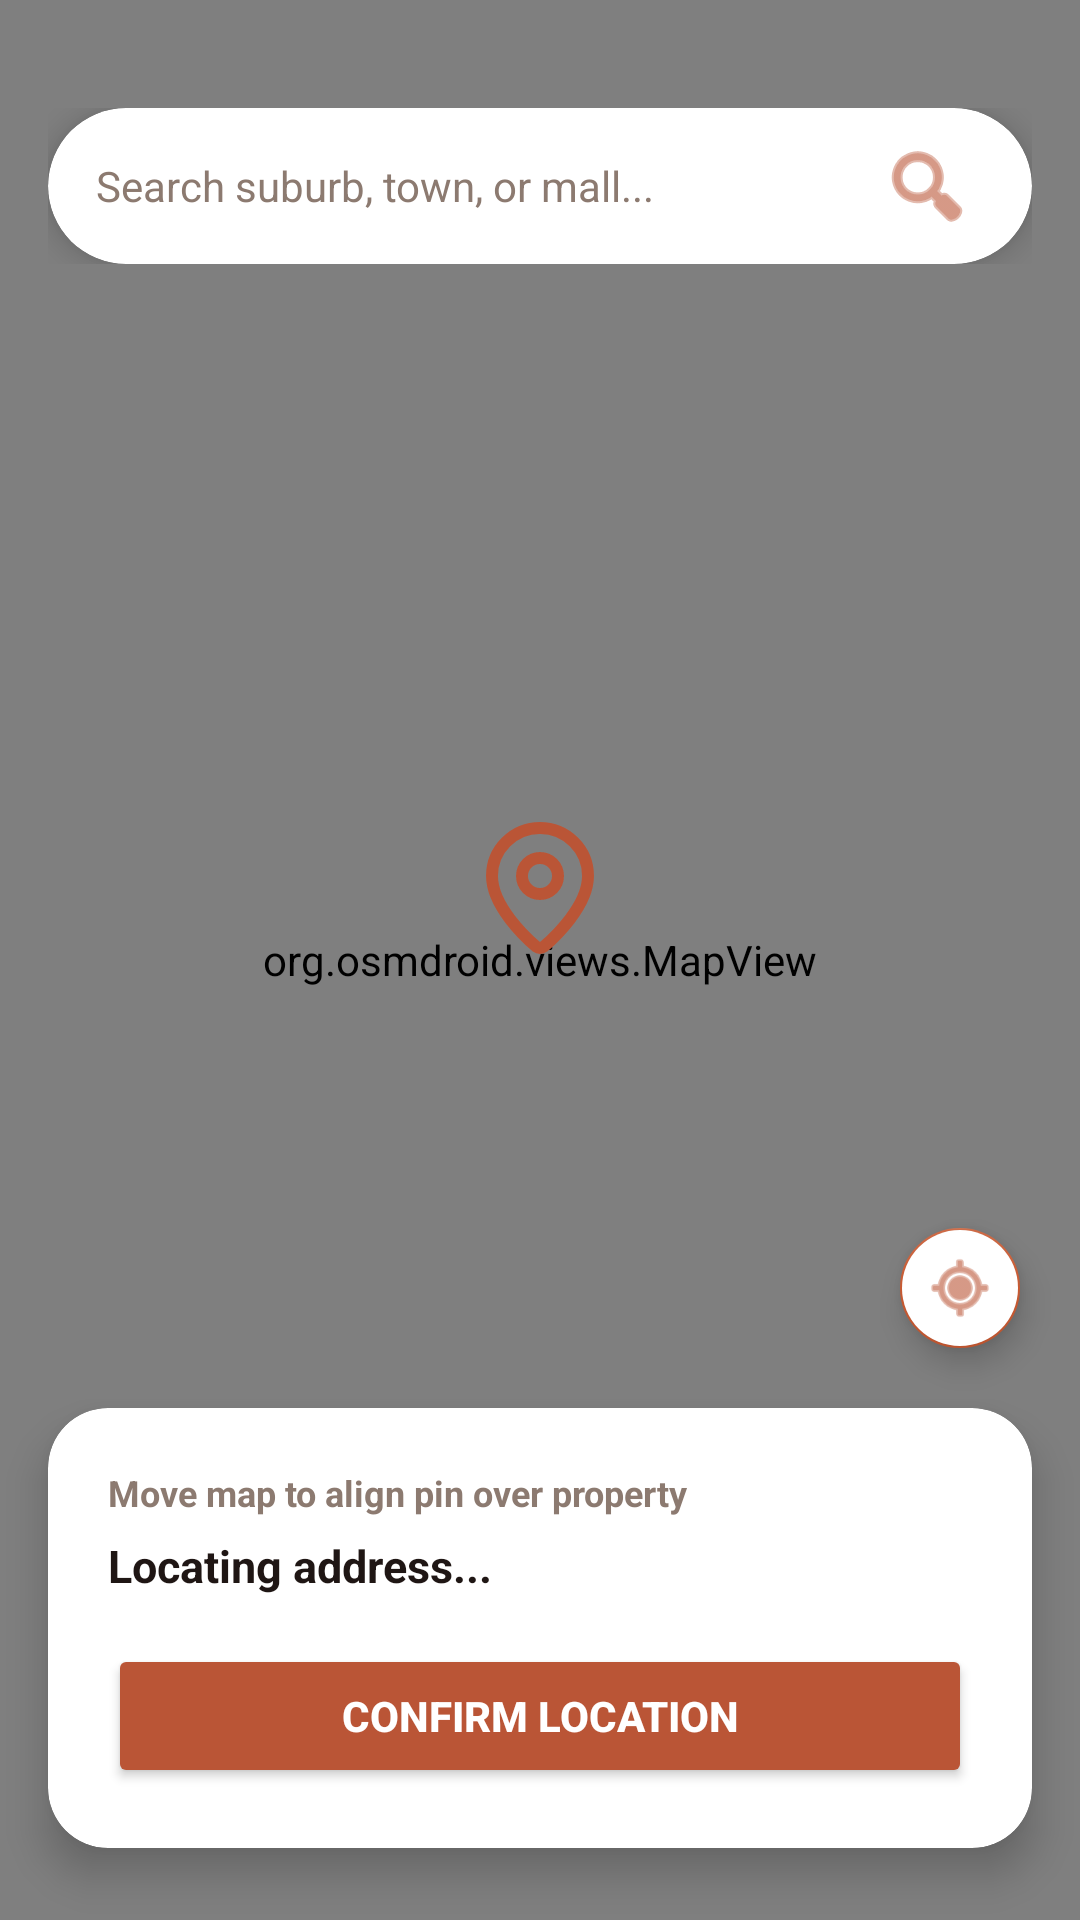

Where icons sit on this 1080×1920 app screen, as (x1, y1, x2, y2):
Locate Me: (900, 1228, 1020, 1348)
